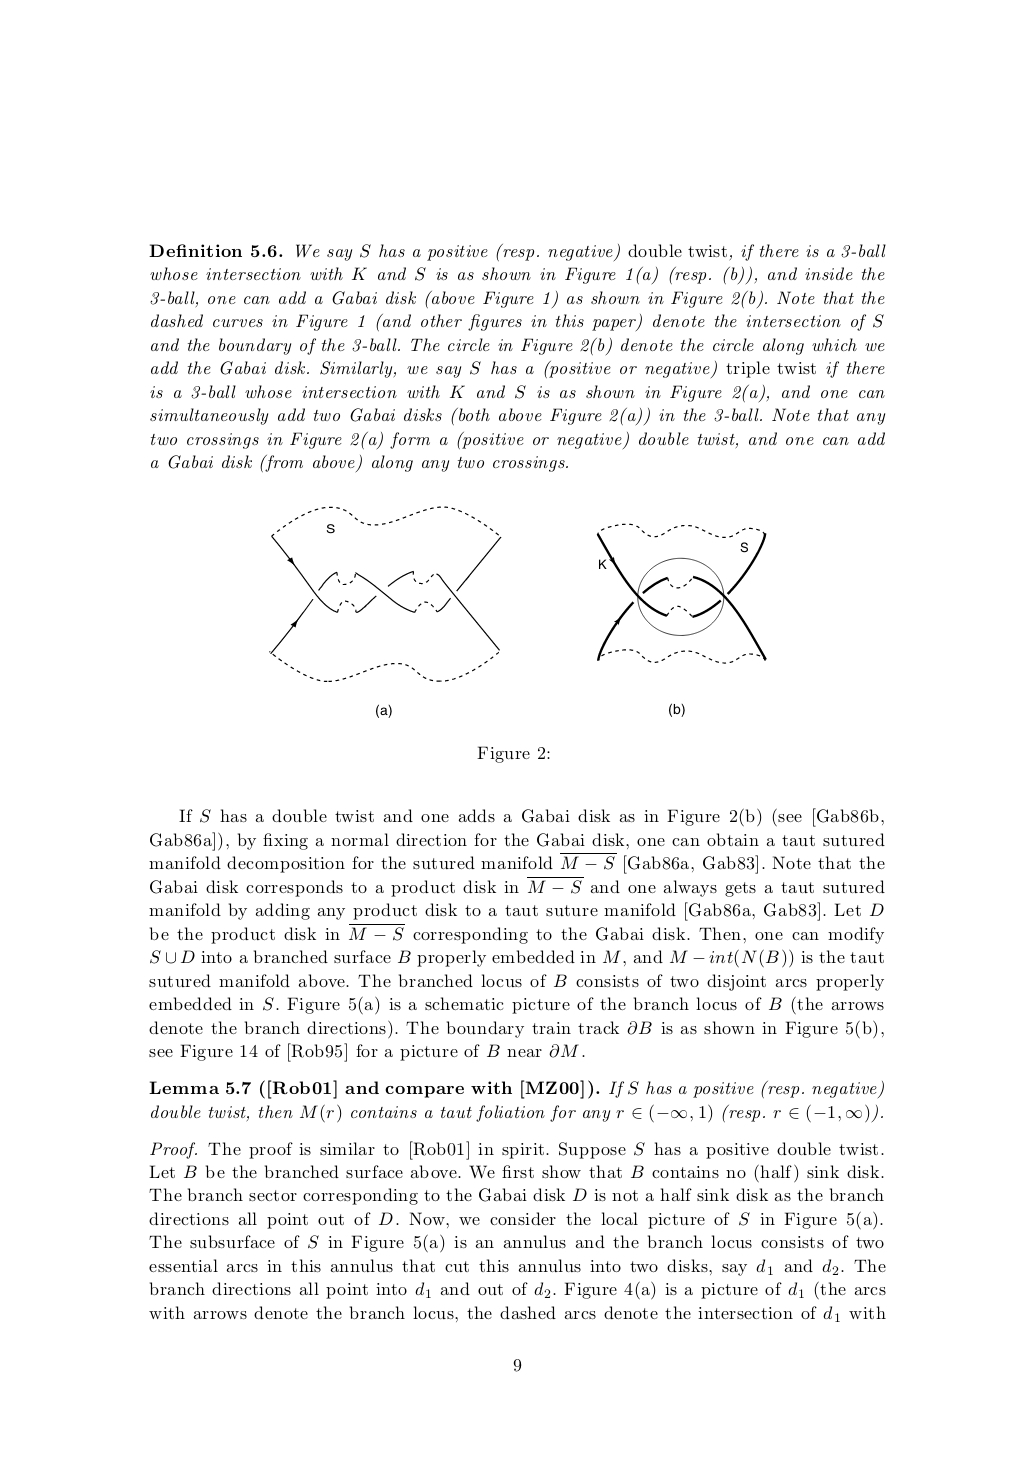figure: (269, 506, 501, 682), (596, 523, 767, 663)
